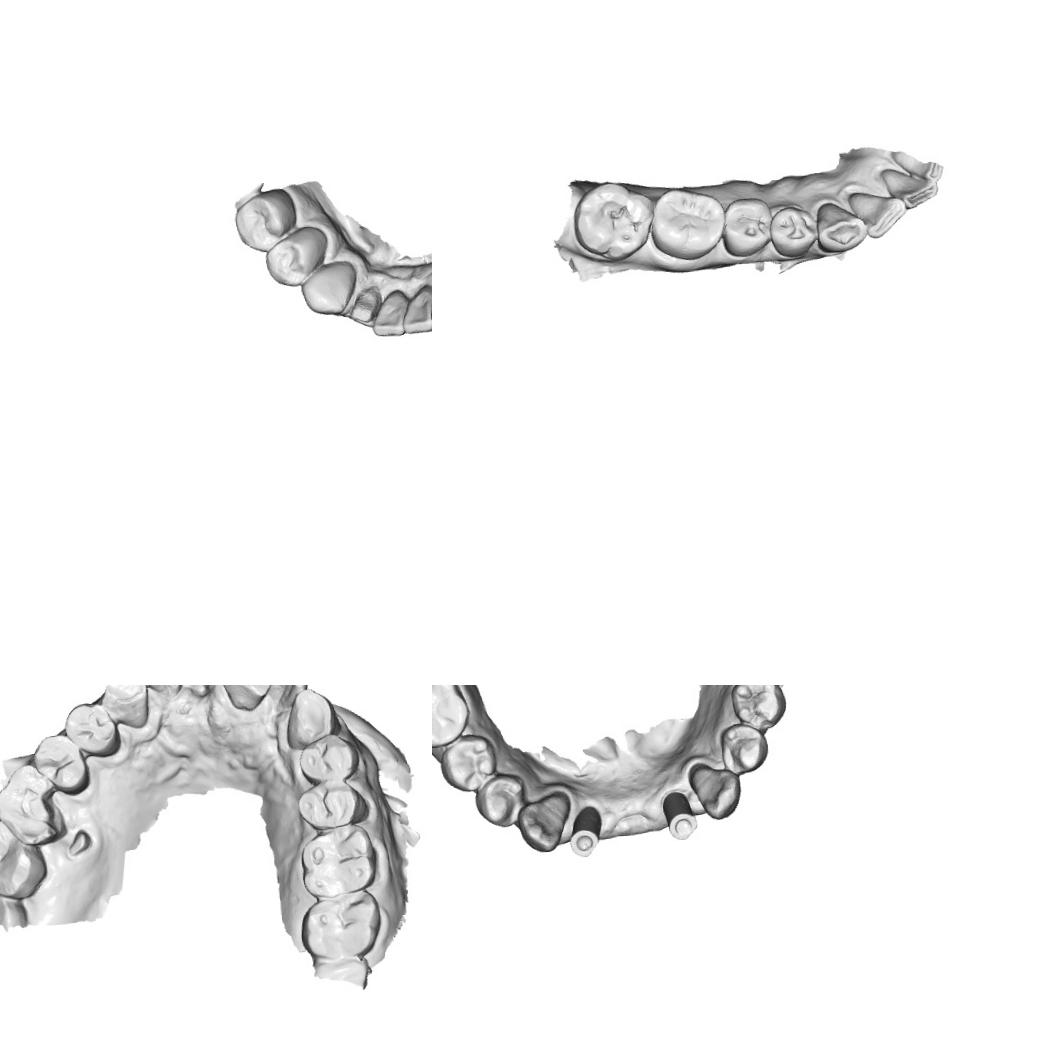canine: (686, 759, 744, 822), (516, 790, 572, 854), (297, 260, 358, 318), (282, 685, 336, 749), (812, 200, 870, 254), (100, 685, 151, 731)
crown: (349, 286, 381, 323)
implant: (659, 788, 699, 842), (566, 804, 604, 858)
incisor: (845, 186, 910, 241), (880, 164, 940, 210), (899, 146, 946, 188), (399, 283, 432, 333), (370, 288, 404, 336), (216, 685, 273, 713), (265, 685, 309, 713), (135, 685, 184, 702)
molar: (570, 178, 659, 264), (647, 183, 729, 263), (297, 888, 383, 962), (296, 823, 378, 900), (0, 759, 65, 848), (0, 815, 48, 903), (432, 685, 473, 751)
premolar: (232, 186, 298, 253), (294, 777, 370, 831), (29, 731, 90, 798), (436, 730, 499, 794), (296, 731, 360, 789), (62, 699, 120, 760), (720, 194, 774, 259), (262, 230, 318, 288), (472, 771, 528, 829), (766, 202, 819, 259), (718, 718, 770, 776), (726, 685, 786, 733)
